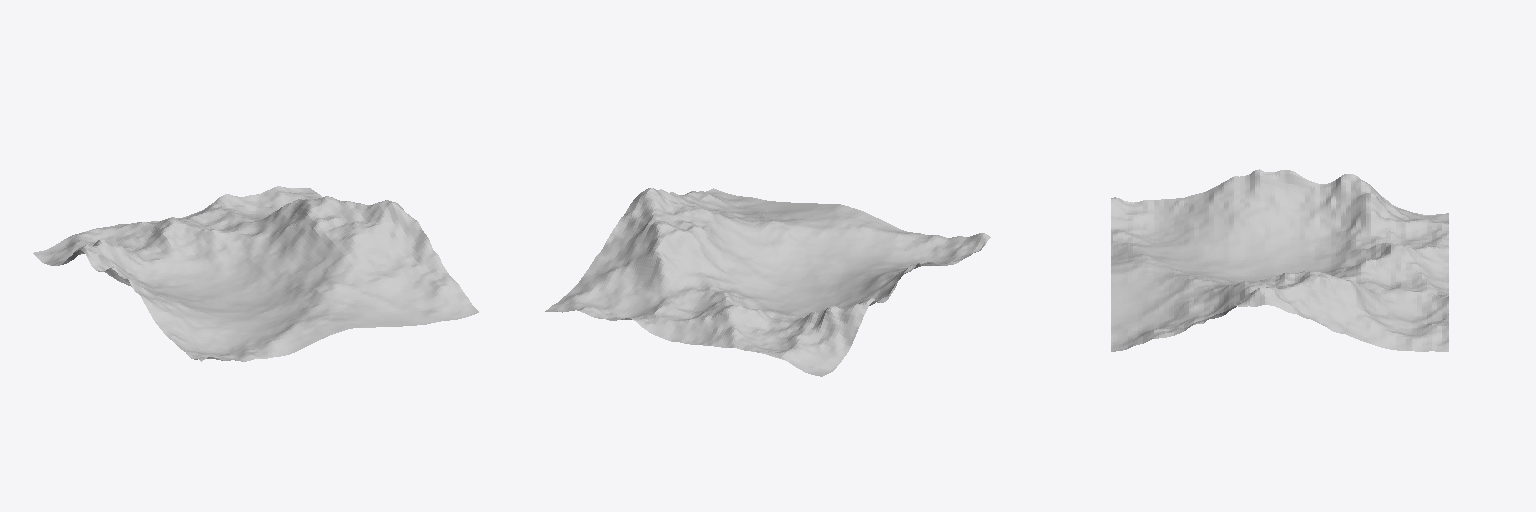
File: ground11.obj
3 views of the same model, side by side, from view 1: azimuth 30°, elevation 25°; view 2: azimuth 150°, elevation 25°; view 3: azimuth 270°, elevation 25° (orthographic).
Parts seen in each view (by area): view 1: ground11; view 2: ground11; view 3: ground11.
Part boxes in pixels (x1,y1,x2,y2): ground11: (33,186,478,361); ground11: (545,188,990,376); ground11: (1111,169,1448,351).
Size of the model in its own units: 83.91 by 17.34 by 88.53.